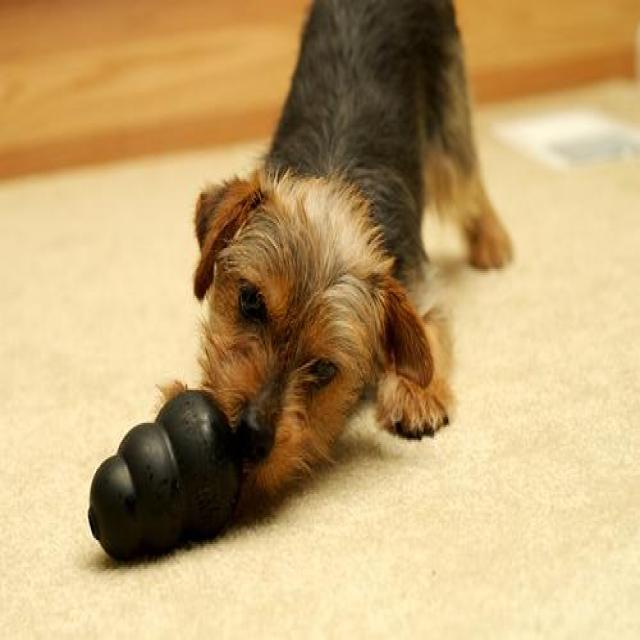dogs: (125, 0, 538, 516)
